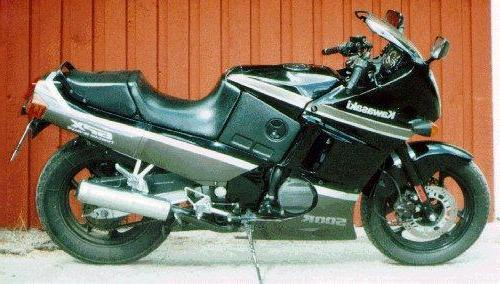motorcycle: (2, 2, 500, 274)
